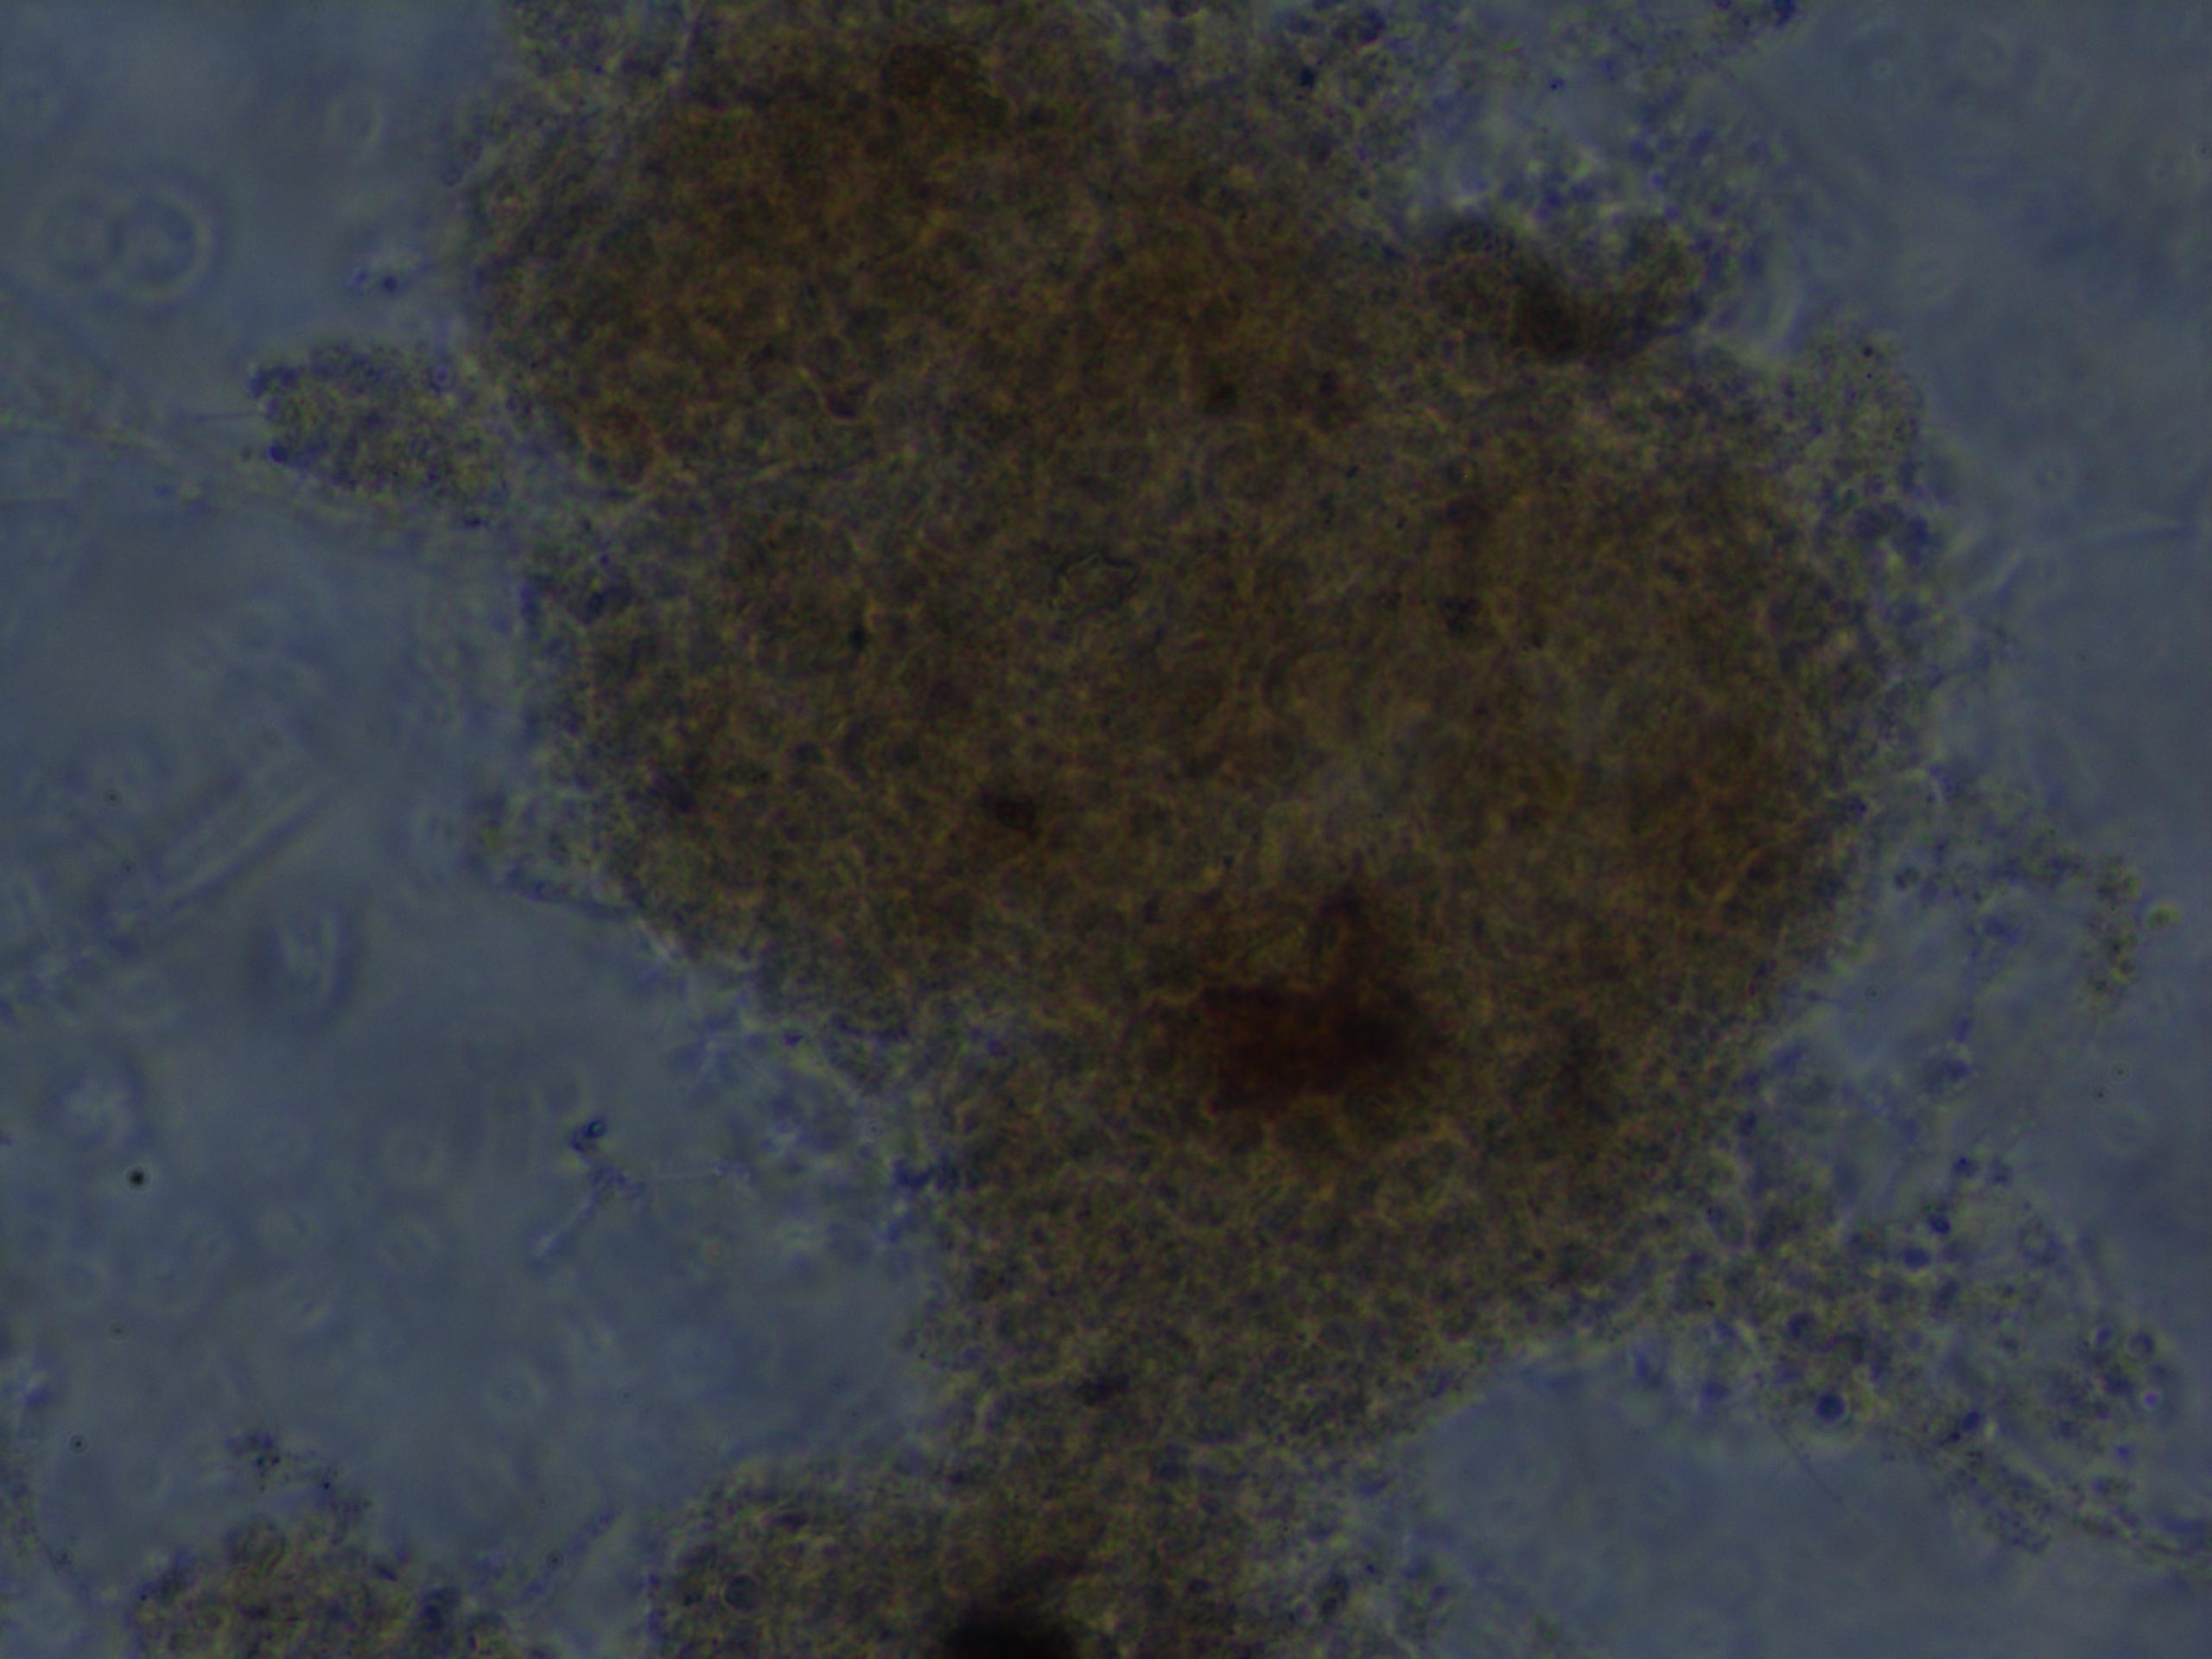spherical_floc: (442, 0, 1947, 1460)
